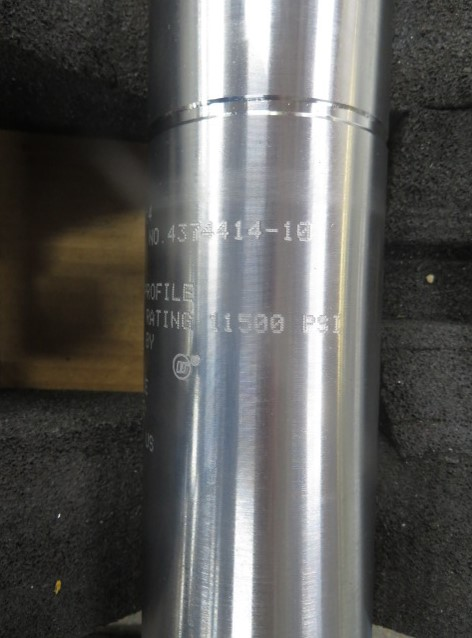character: (268, 310, 287, 339), (314, 314, 333, 340), (246, 218, 267, 240), (295, 220, 313, 244), (237, 310, 253, 337), (330, 313, 346, 340), (205, 309, 221, 334), (253, 312, 268, 338), (280, 221, 295, 246), (202, 220, 219, 242), (232, 219, 247, 243), (183, 280, 198, 304), (301, 313, 315, 338), (216, 219, 231, 241), (222, 308, 234, 335), (181, 309, 194, 332), (265, 227, 281, 238)
